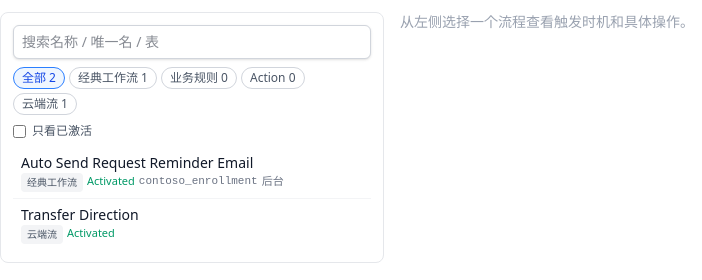
WorkflowViewer › filters the list by category
The width and height of the screenshot is (702, 280).
Click the button "云端流 1".
click(45, 104)  # box [13,93,77,115]
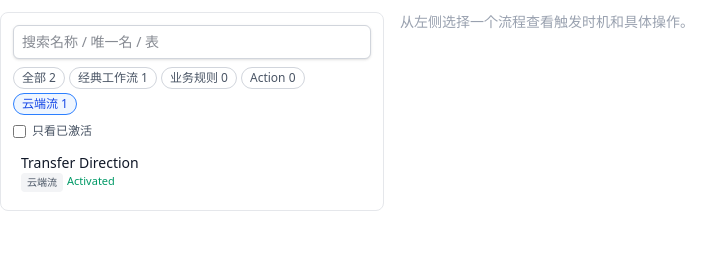
Expected: the text "Transfer Direction" is shown, [21,153,139,173]
Expected: the text "Auto Send Request Reminder Email" is gone
